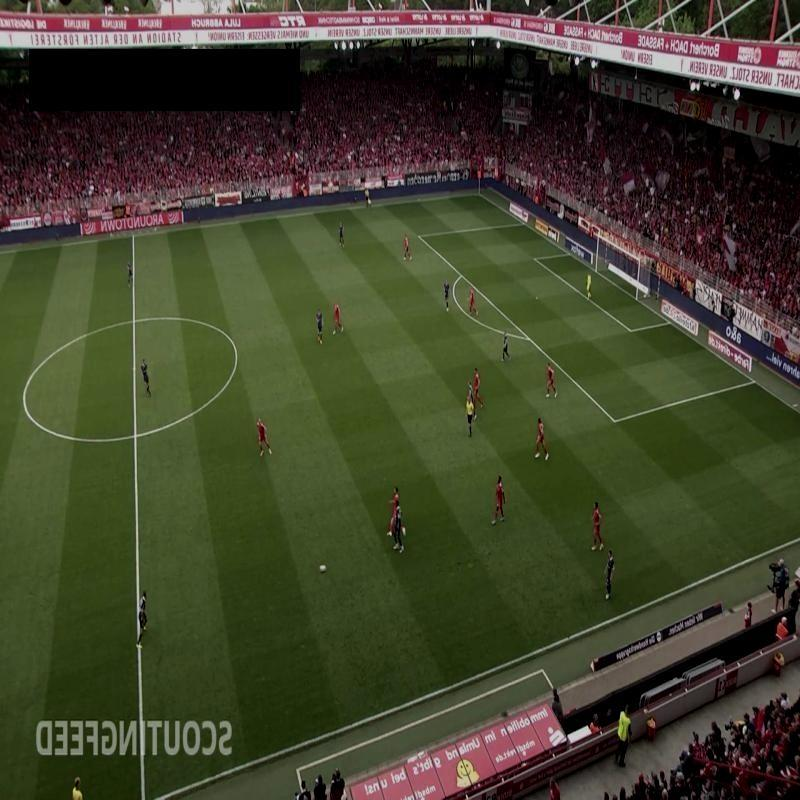1: (470, 186, 485, 200)
10: (454, 269, 469, 283)
11: (523, 332, 537, 346)
12: (608, 414, 622, 428)
13: (126, 228, 140, 242)
14: (126, 313, 140, 327)
15: (127, 427, 142, 441)
2: (518, 216, 532, 230)
3: (563, 247, 577, 260)
4: (663, 316, 677, 330)
5: (747, 374, 761, 388)
7: (528, 252, 542, 266)
8: (624, 323, 638, 337)
9: (411, 228, 425, 242)
c: (13, 388, 35, 406), (230, 347, 244, 361)
